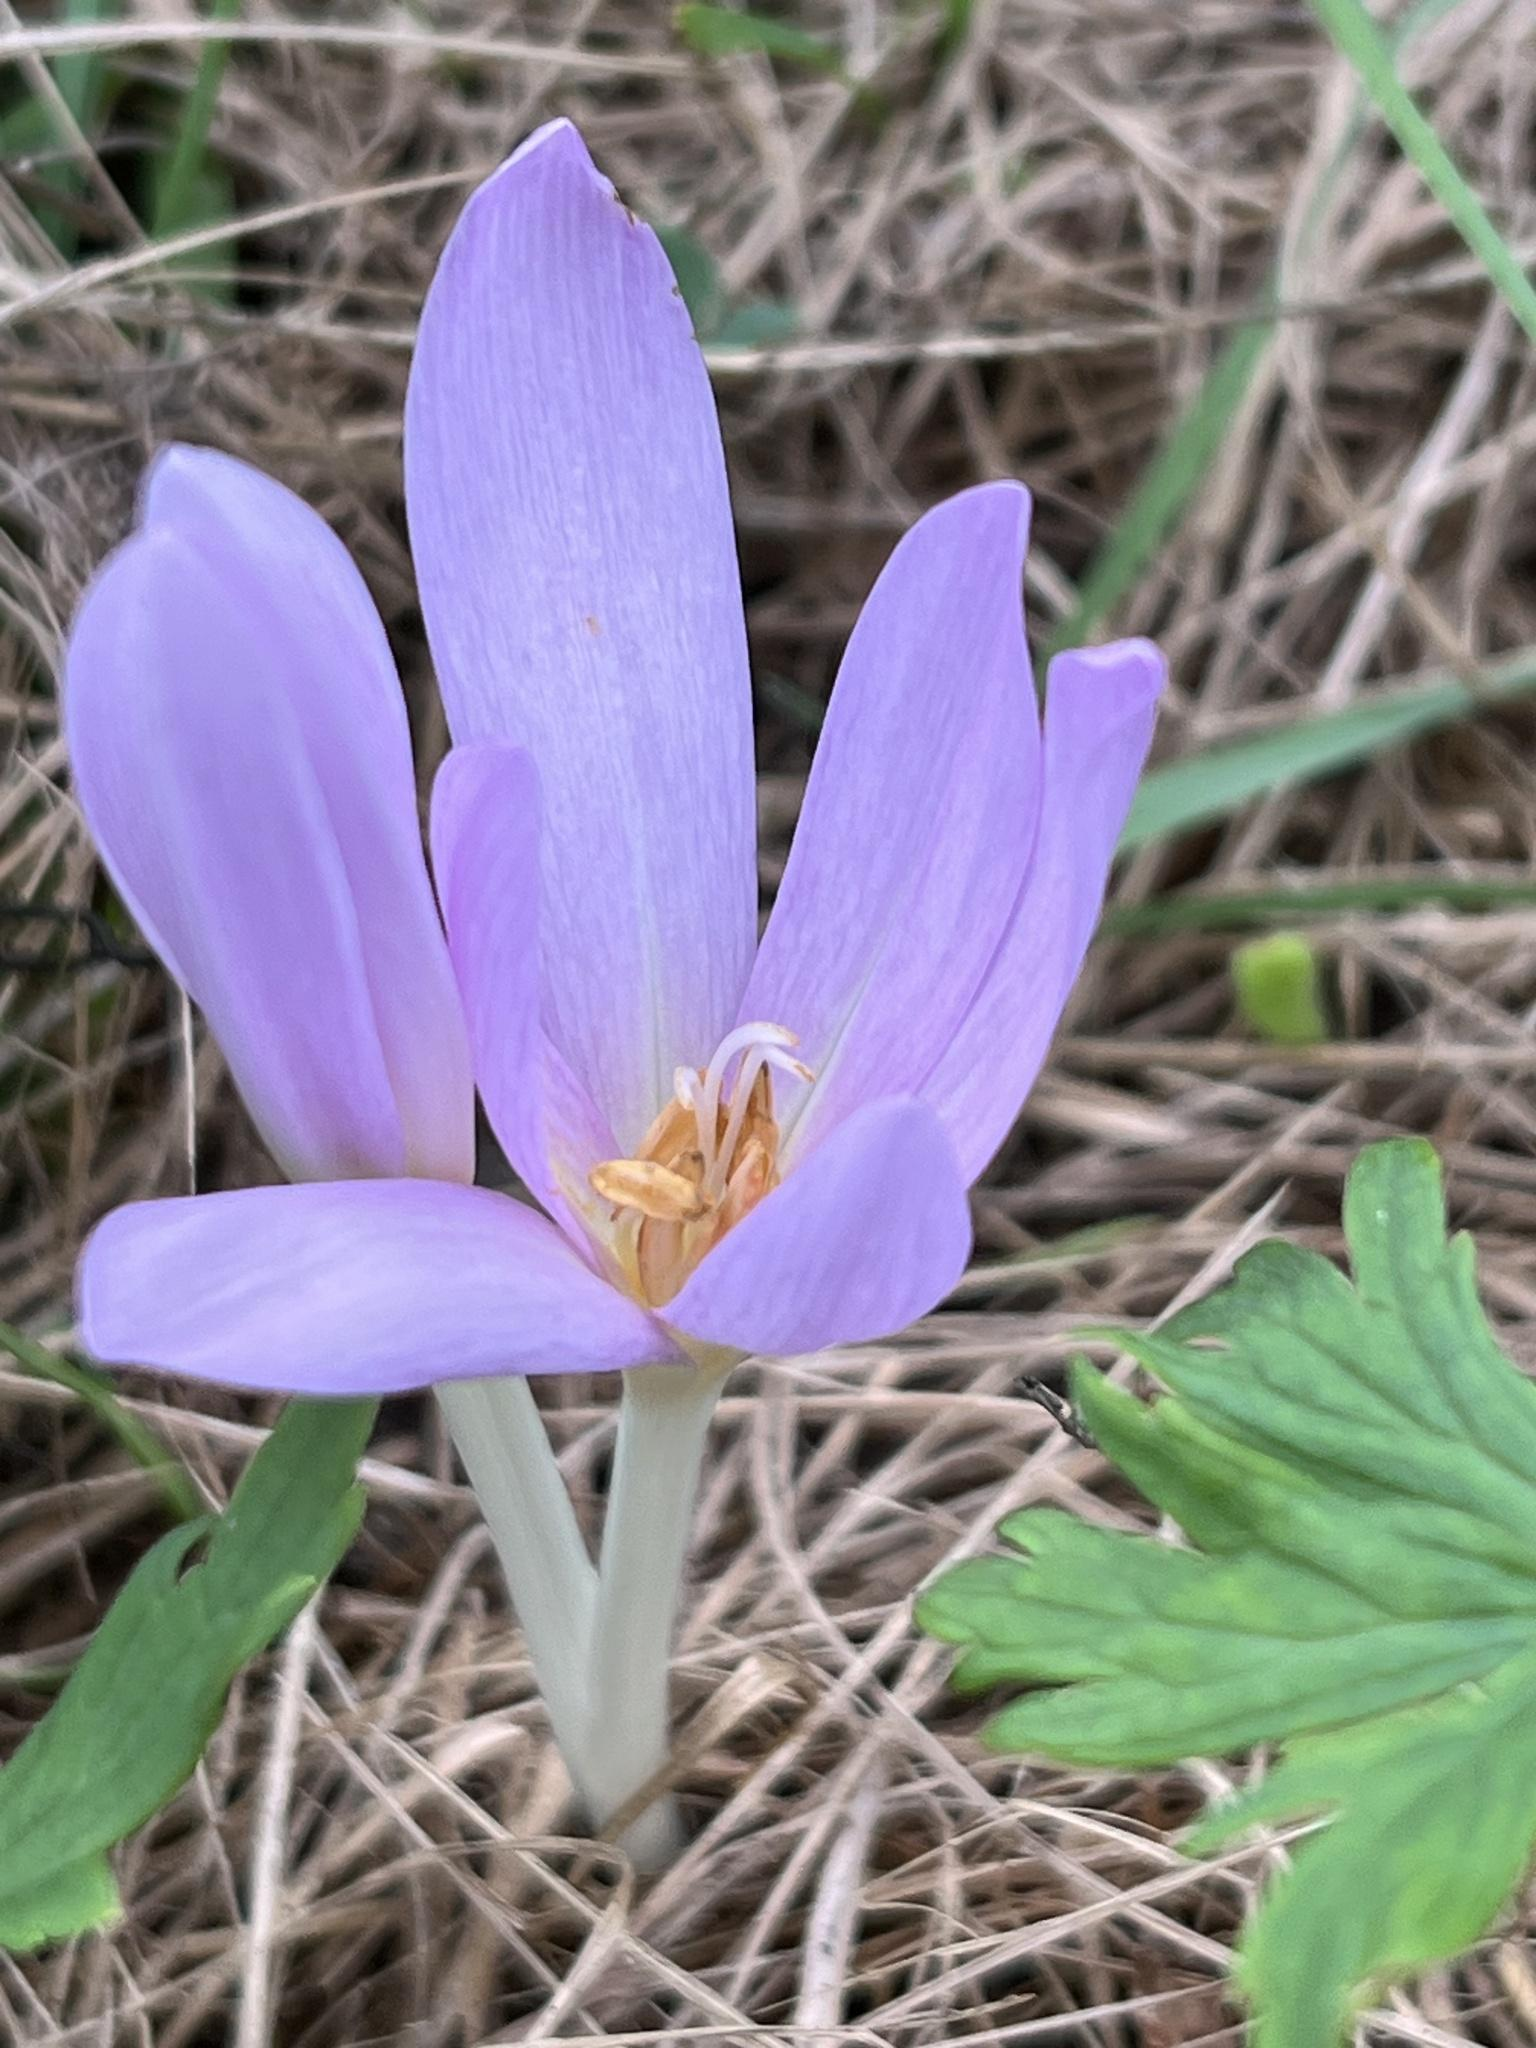Colchicum autumnale L: (58, 92, 1220, 1790)
